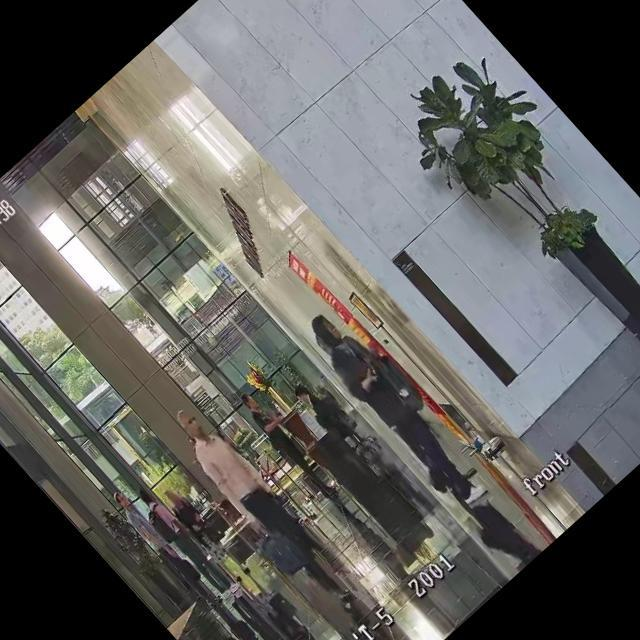person: (296, 302, 492, 512), (160, 398, 355, 606), (109, 486, 224, 612), (127, 483, 239, 603), (233, 384, 341, 502), (288, 376, 350, 442), (158, 482, 215, 542)
